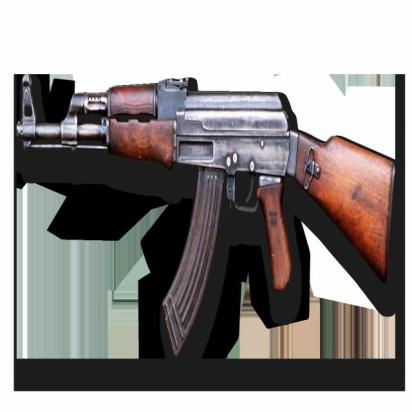Gun: (20, 79, 394, 354)
